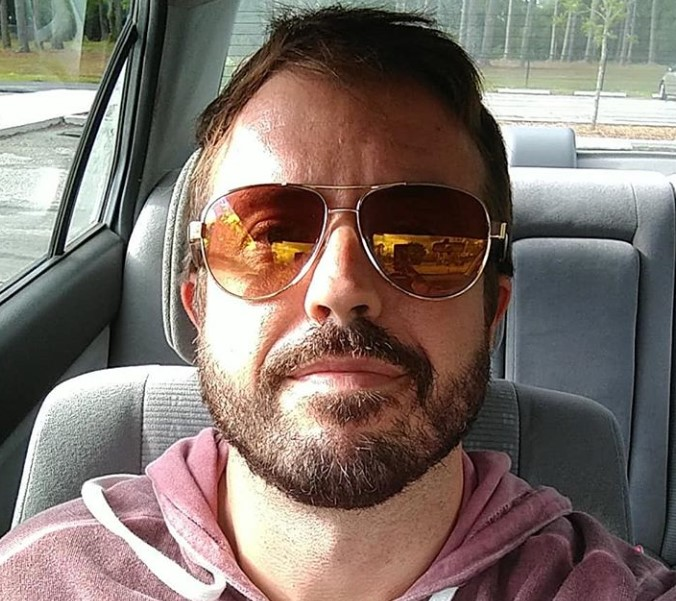face_no_mask: (193, 59, 506, 487)
